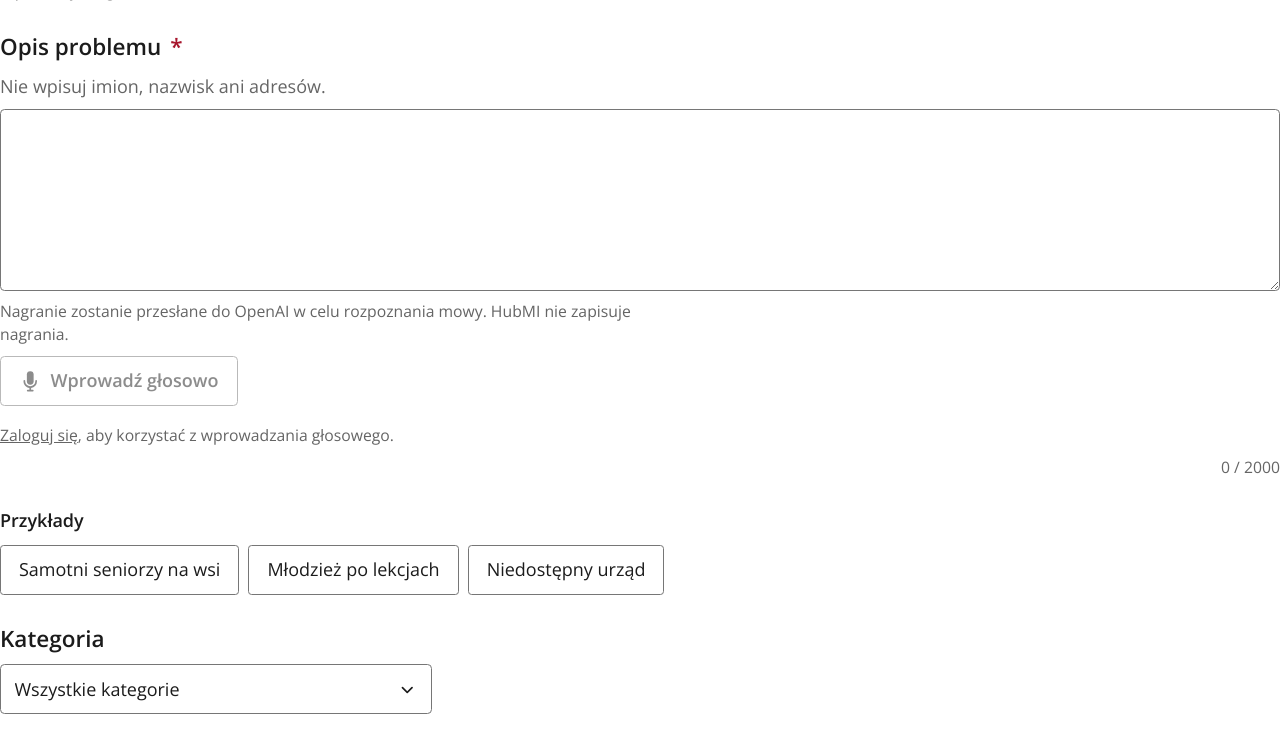
Test: MatchExperience › shows the best AI match as strong and the others relative to it
Type "Samotni seniorzy na wsi nie mają z kim porozmawiać" into the text box labelled "Opis problemu" at {"x": 640, "y": 200}, box [0,109,1279,291]
(page scrolled)
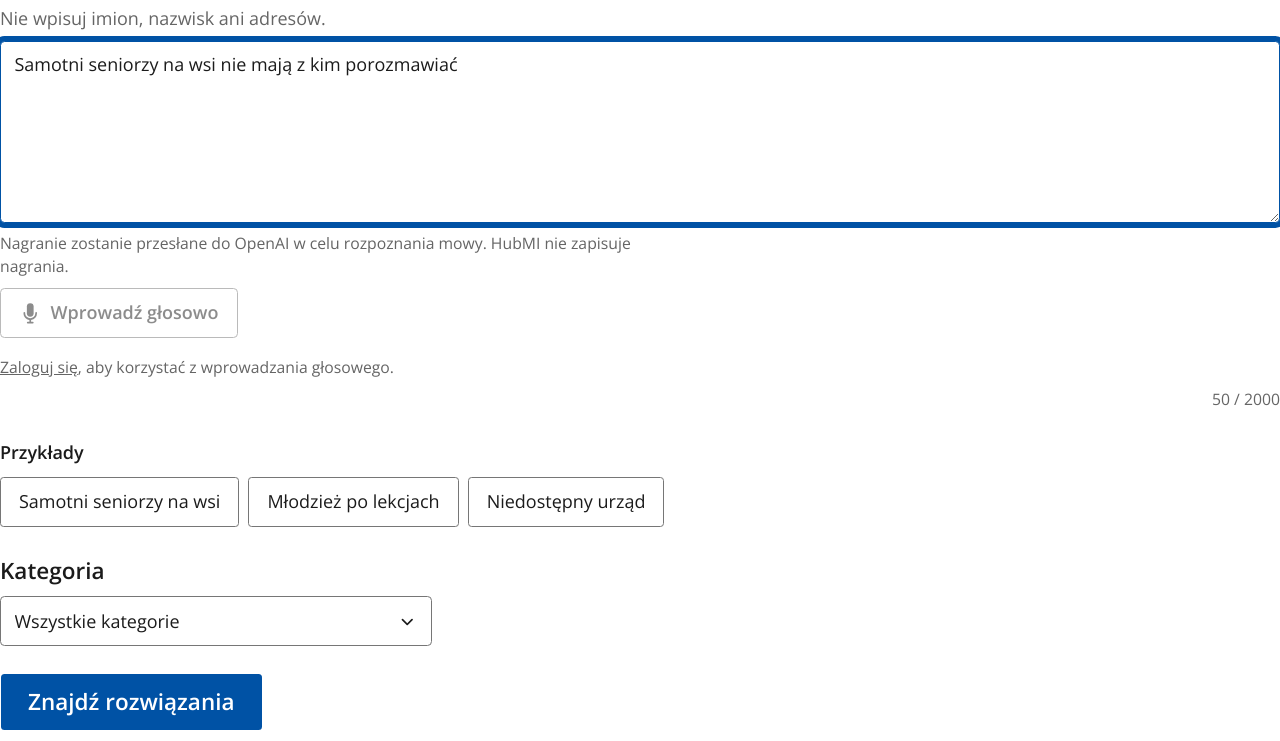
Click the button "Znajdź rozwiązania" at {"x": 131, "y": 702}, box [0,673,262,731]
(page scrolled)
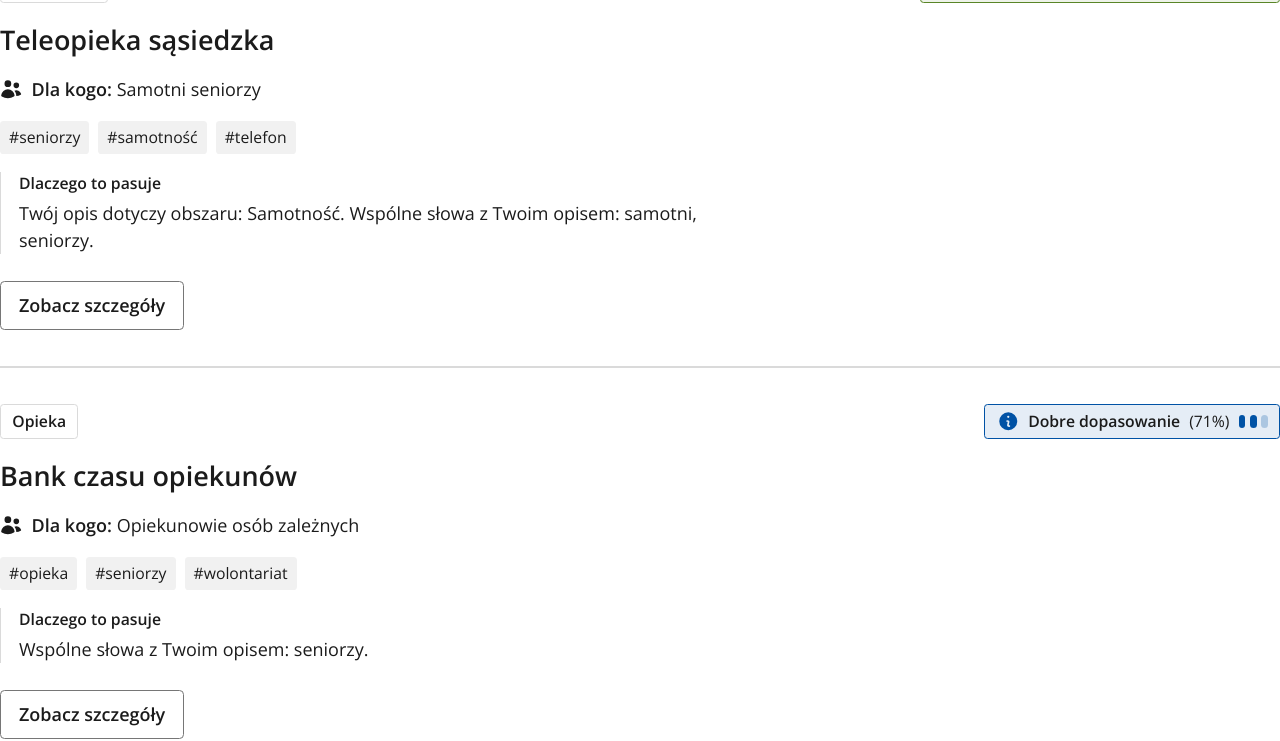
Now the text "Dobre dopasowanie" is shown, box [1028,410,1180,434]
Now the text "(71%)" is shown, box [1189,410,1230,434]
